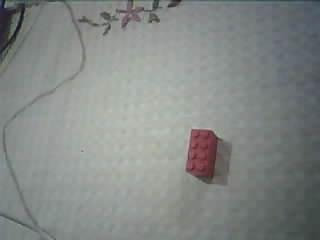lego: (182, 128, 219, 178)
